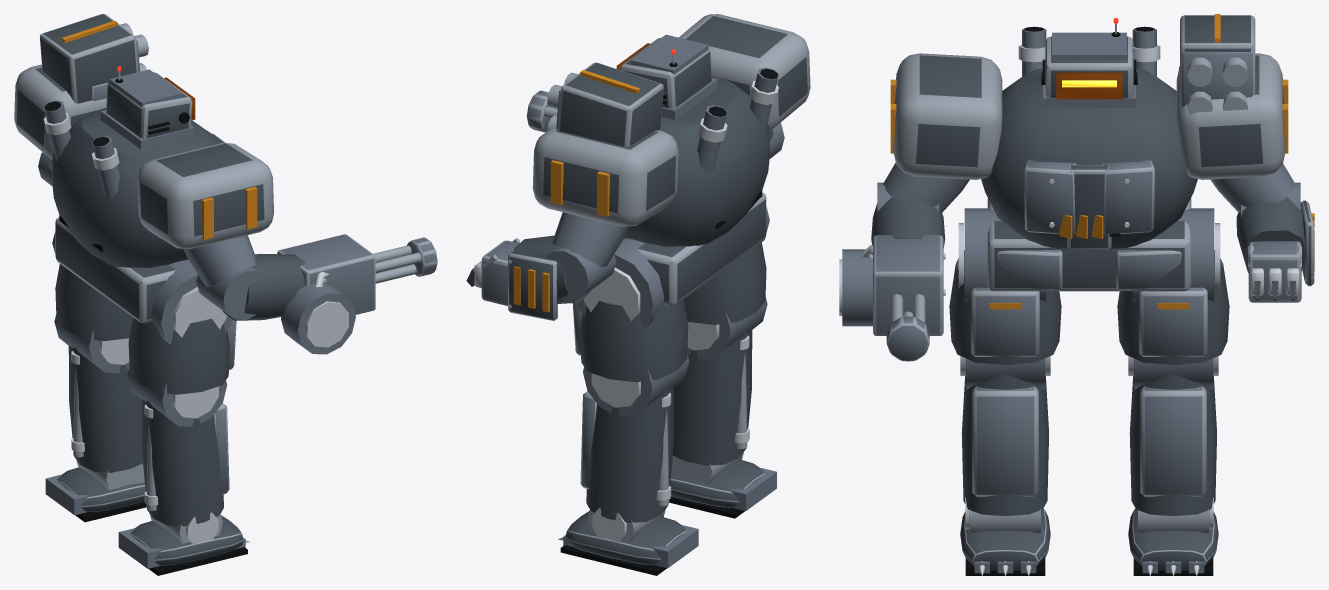
The model's file is enemigo_mech_pesado.glb.
The picture shows the model from 3 angles, left to right: view 1: azimuth 30°, elevation 25°; view 2: azimuth 150°, elevation 25°; view 3: azimuth 270°, elevation 25°; orthographic projection. The views are drawn at different scales.
Visible parts, largest first — view 1: mov_torso, mov_brazo_der, mov_pierna_der, mov_pierna_izq, mov_brazo_izq; view 2: mov_torso, mov_pierna_izq, mov_brazo_izq, mov_pierna_der, mov_brazo_der; view 3: mov_torso, mov_pierna_der, mov_pierna_izq, mov_brazo_der, mov_brazo_izq.
Boxes of the visible parts, x1,y1,x2,y2 form: mov_torso: (39, 14, 225, 323); mov_brazo_der: (137, 142, 437, 354); mov_pierna_der: (118, 260, 249, 575); mov_pierna_izq: (45, 231, 146, 522); mov_brazo_izq: (14, 64, 106, 186); mov_torso: (547, 34, 778, 305); mov_pierna_izq: (558, 238, 698, 575); mov_brazo_izq: (466, 128, 678, 320); mov_pierna_der: (669, 206, 776, 518); mov_brazo_der: (526, 14, 810, 158); mov_torso: (981, 14, 1255, 291); mov_pierna_der: (949, 208, 1061, 575); mov_pierna_izq: (1117, 208, 1229, 575); mov_brazo_der: (839, 53, 1002, 361); mov_brazo_izq: (1176, 53, 1314, 302).
Size of the model in its own units: 1.69 by 2.62 by 2.15.
